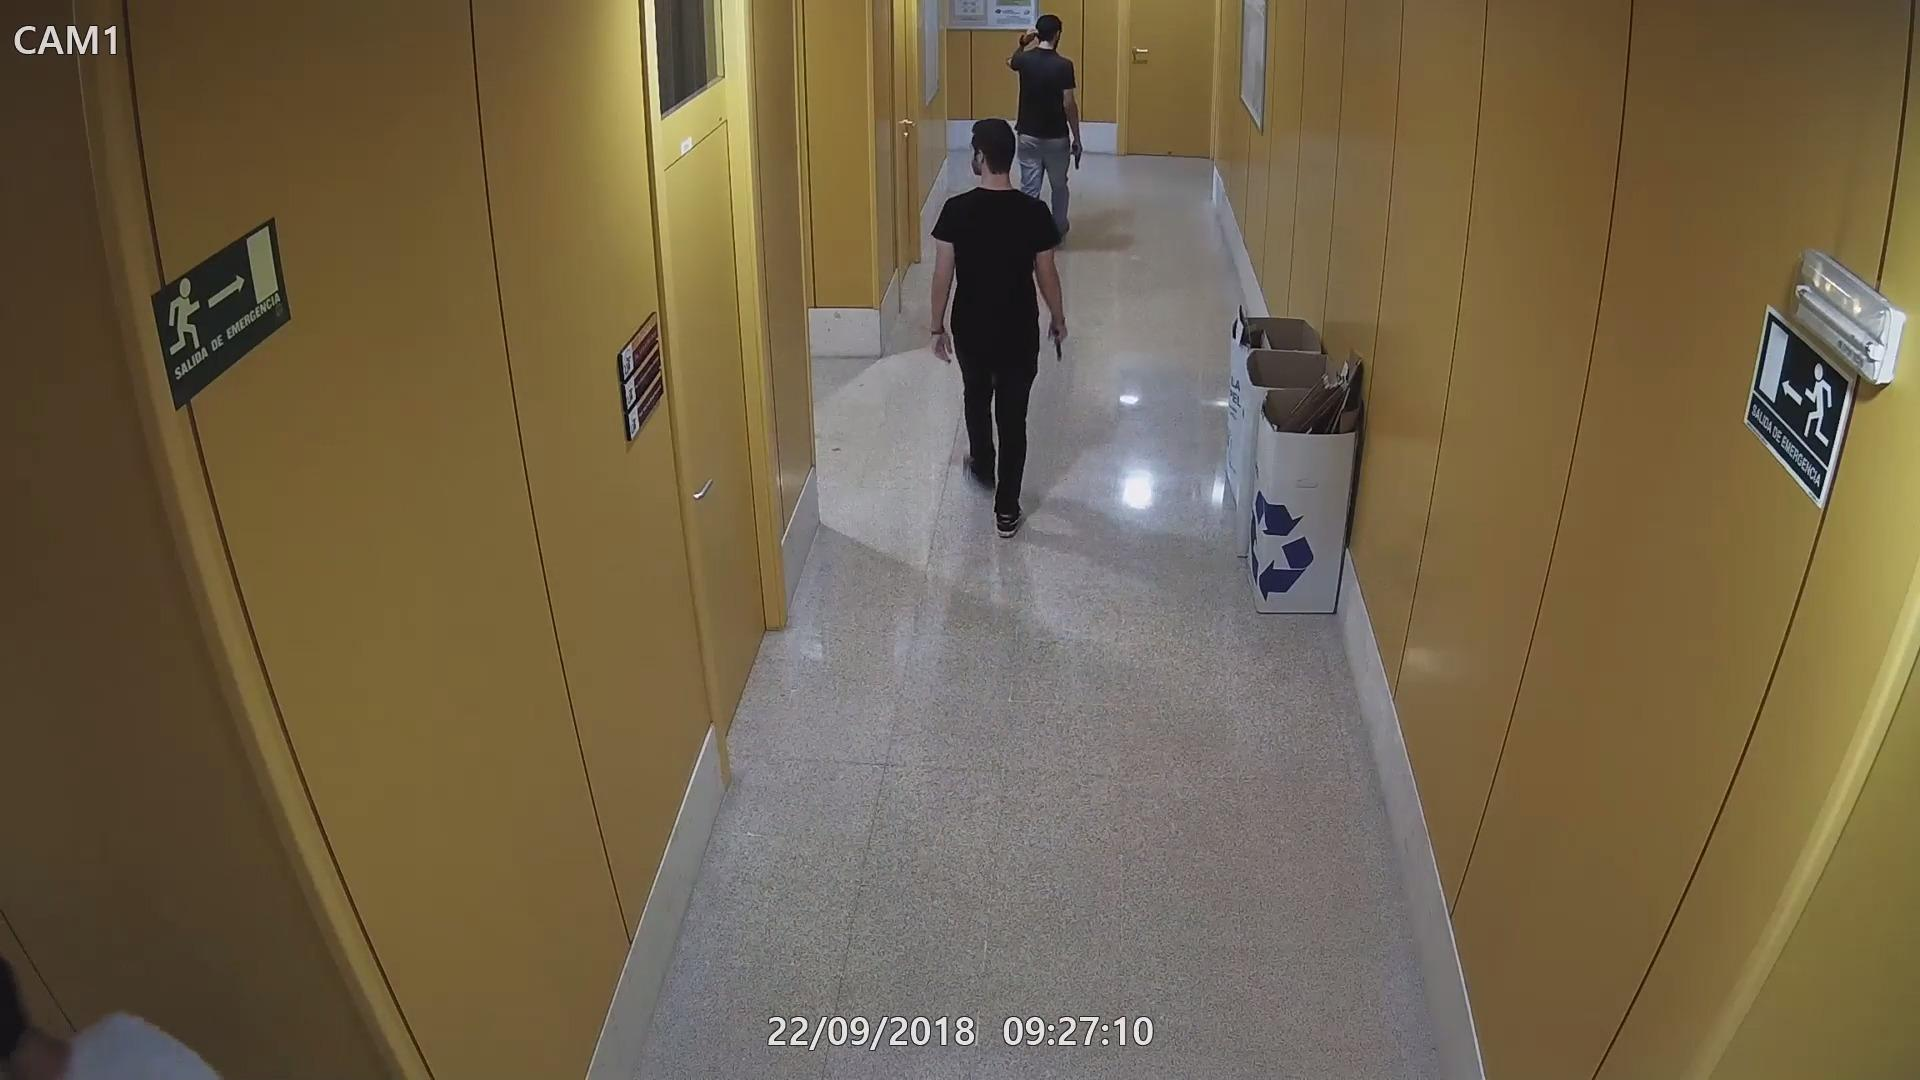Handgun: (1044, 313, 1069, 364), (1064, 137, 1091, 170)
